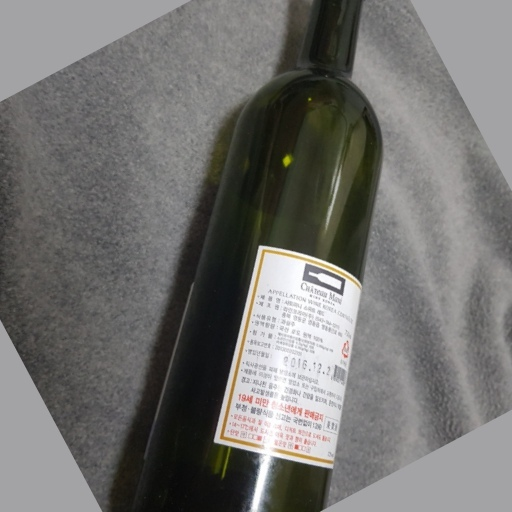Glass_2: (112, 1, 384, 512)
